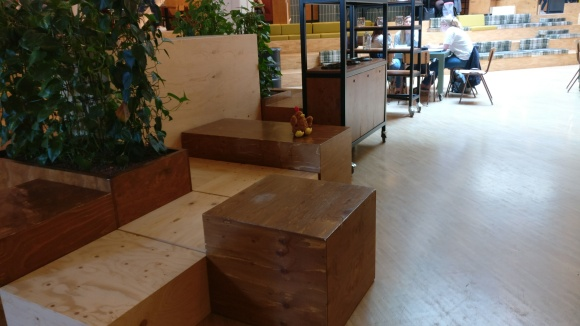chicken: (289, 105, 313, 138)
